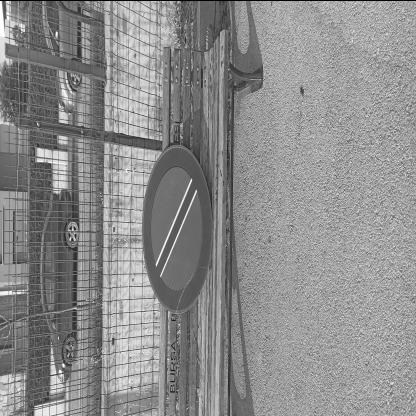No Waiting: (142, 142, 213, 314)
